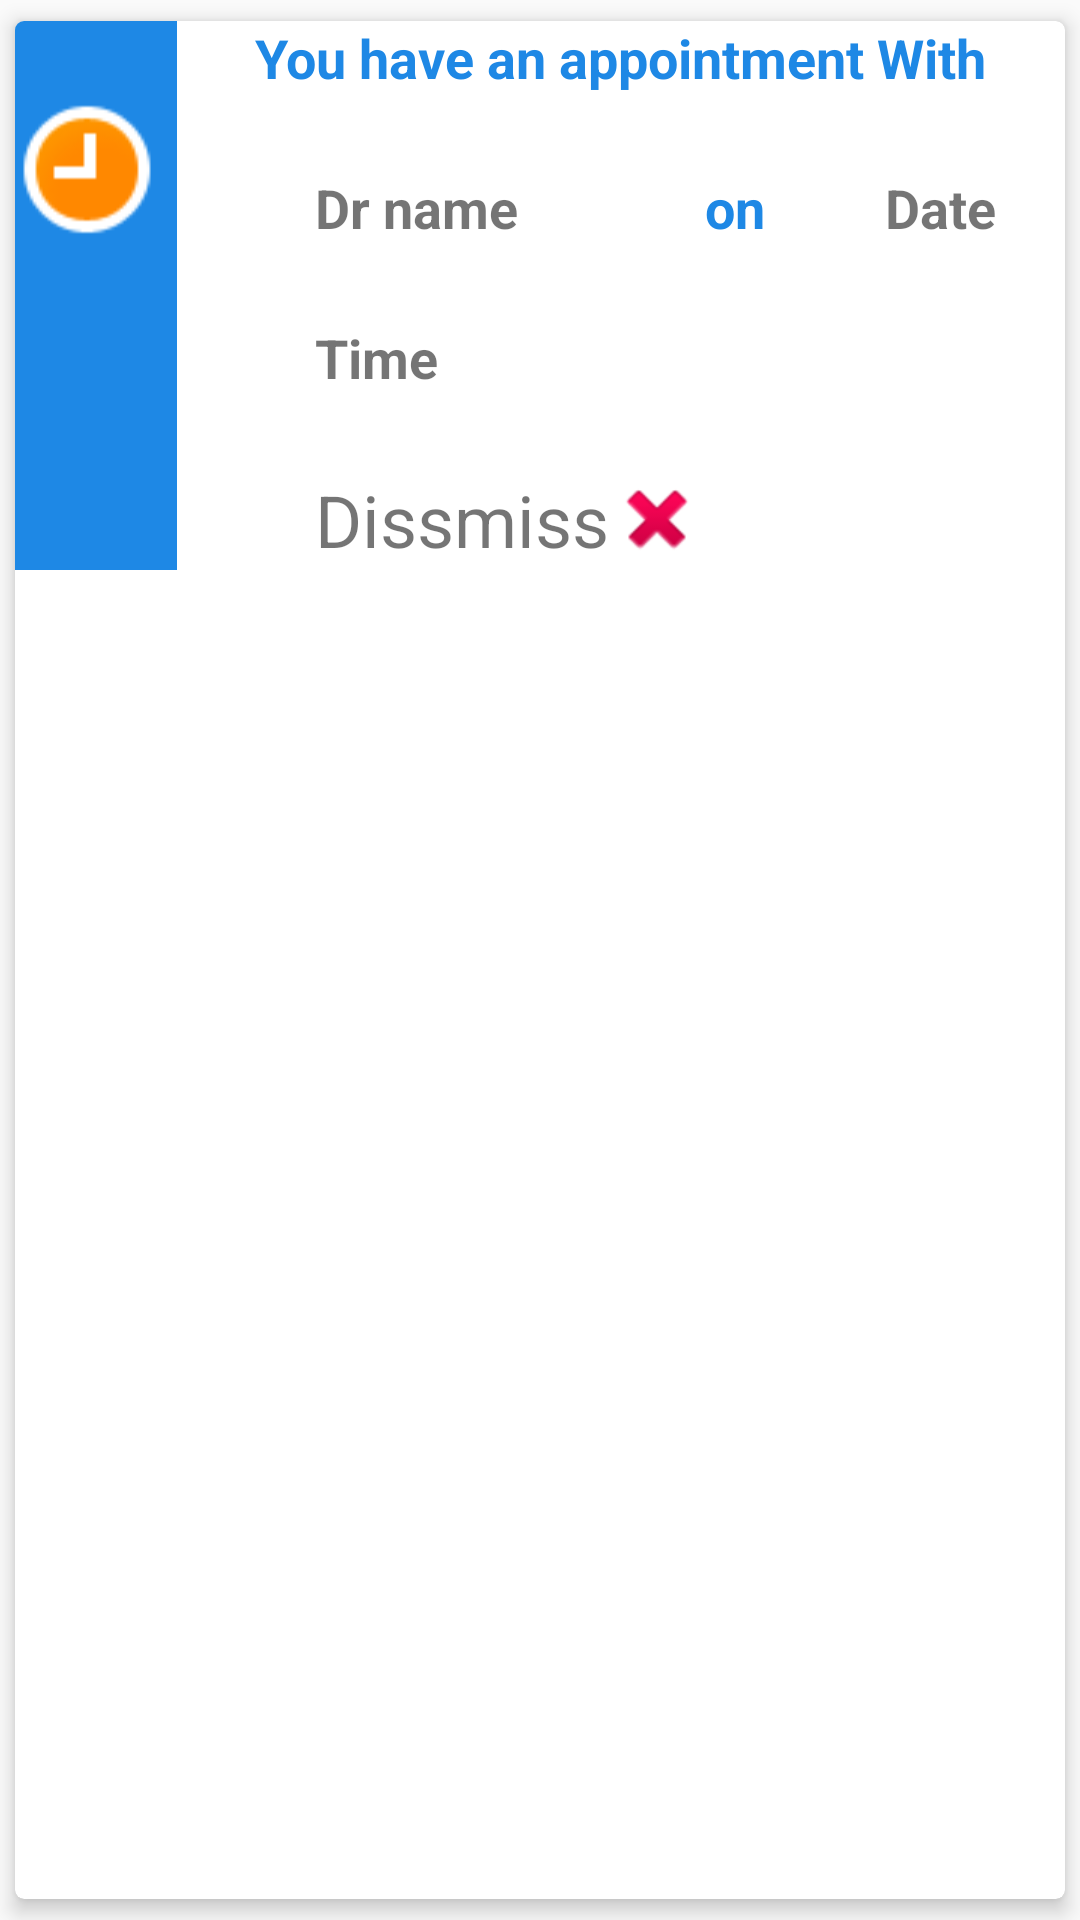

Icons on this 1080 x 1920 Android screen, each with its box as (x1=x1, y1=y1, x2=x2, y2=y2):
presence away: (x1=23, y1=105, x2=151, y2=234)
